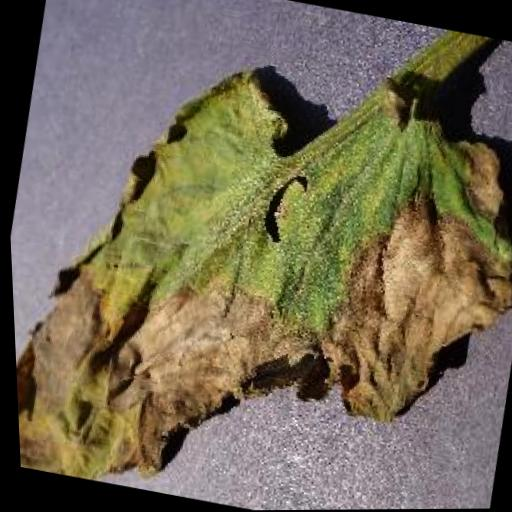Late Blight: (1, 24, 512, 512)
